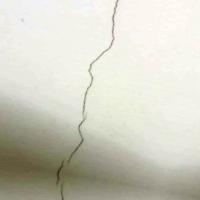crack: (52, 0, 135, 199)
